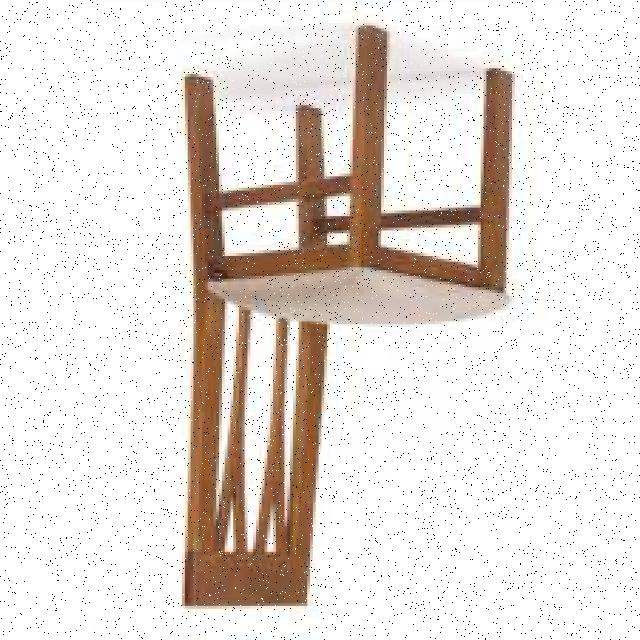bottle: (178, 29, 512, 608)
